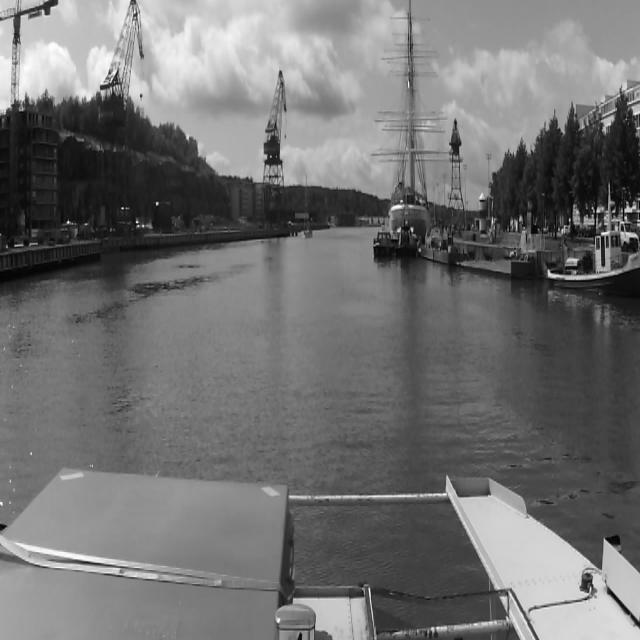ship: (549, 179, 637, 304), (388, 0, 430, 220), (397, 220, 419, 258), (372, 230, 394, 260), (303, 172, 313, 238)
